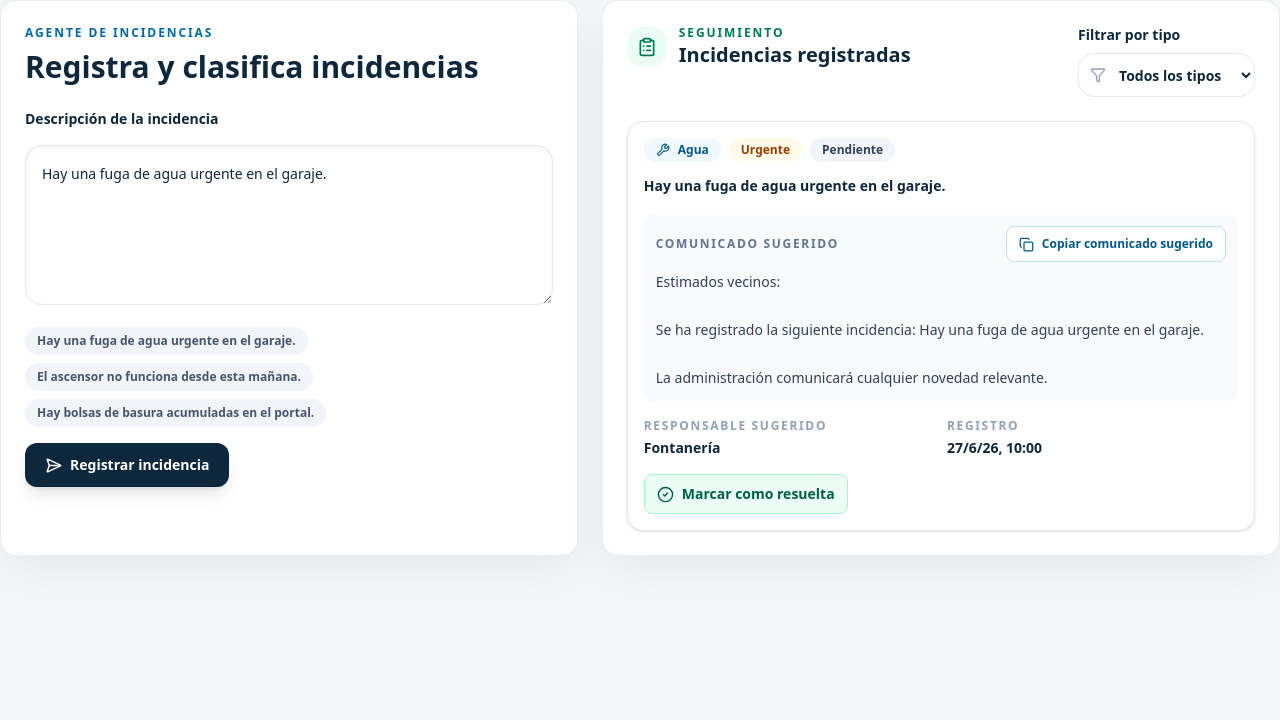
Test: IncidentsPanel › marca una incidencia como resuelta y conserva su tarjeta visible
Click the button "Marcar como resuelta": (746, 494) [644,474,848,514]
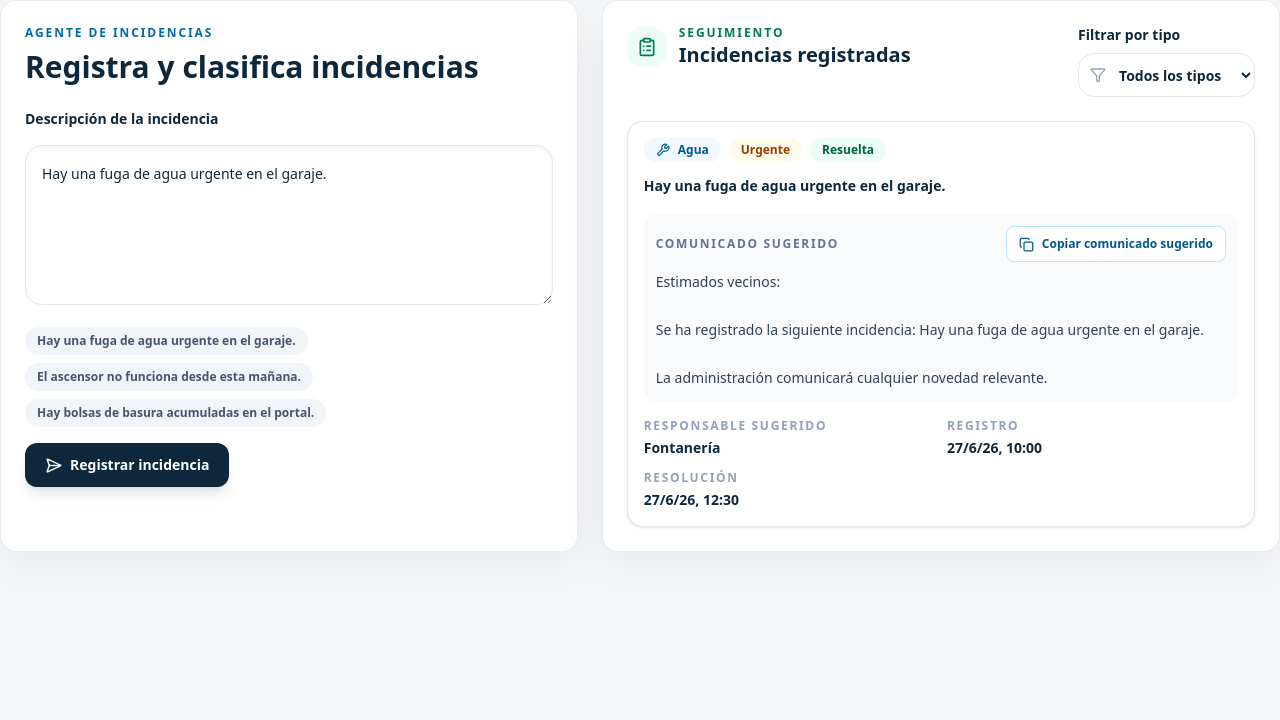
expect the text "Resuelta" is shown: met, box [810,138,886,162]
expect the button "Marcar como resuelta" is gone: met
